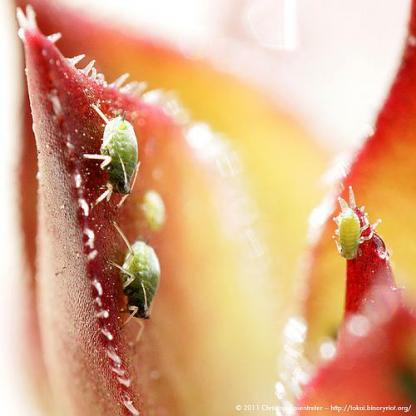aphid: (104, 221, 178, 348), (80, 94, 153, 206), (323, 177, 383, 276)
